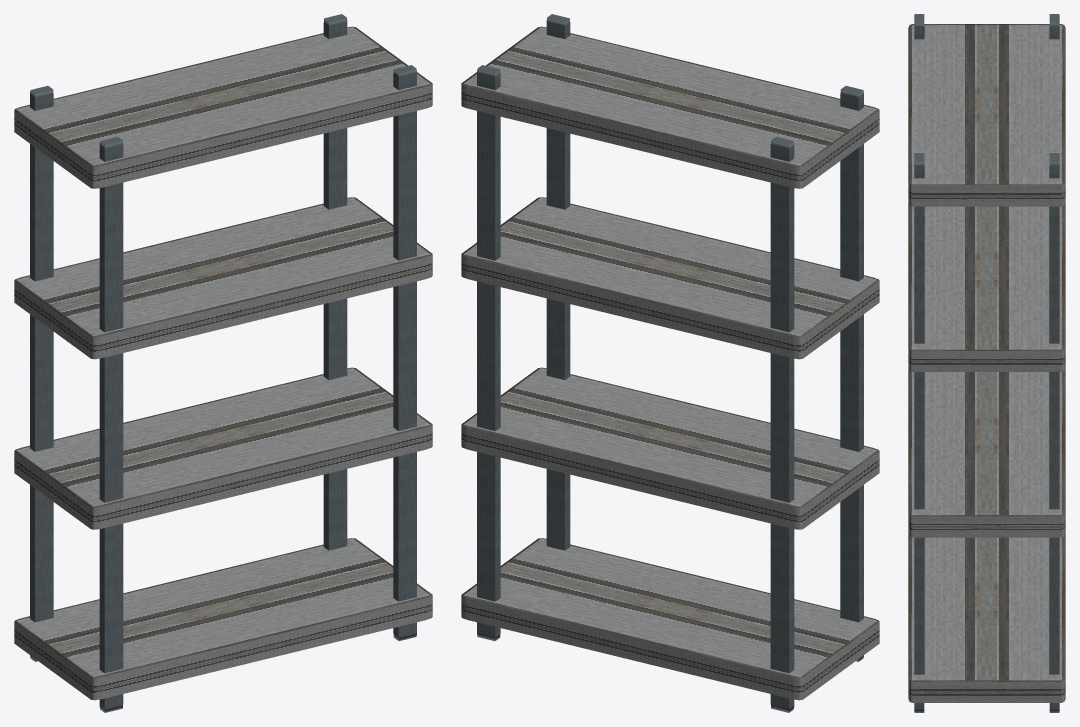
Rendered from food-rack.glb.
3 views of the same model, side by side, from view 1: azimuth 30°, elevation 25°; view 2: azimuth 150°, elevation 25°; view 3: azimuth 270°, elevation 25° (orthographic). The views are drawn at different scales.
Parts seen in each view (by area): view 1: shelf (×4), leg (×4); view 2: shelf (×4), leg (×4); view 3: shelf (×4), leg (×4).
Part boxes in pixels (left/top/right/bottom): shelf (×4): left=14, top=26, right=432, bottom=700; leg (×4): left=30, top=14, right=416, bottom=712; shelf (×4): left=461, top=26, right=879, bottom=700; leg (×4): left=477, top=14, right=863, bottom=712; shelf (×4): left=908, top=24, right=1065, bottom=702; leg (×4): left=914, top=14, right=1059, bottom=712.
Bounding box in the file's own units: 1.12 × 1.78 × 0.46.
Materials: 2 (2 with a texture image).
